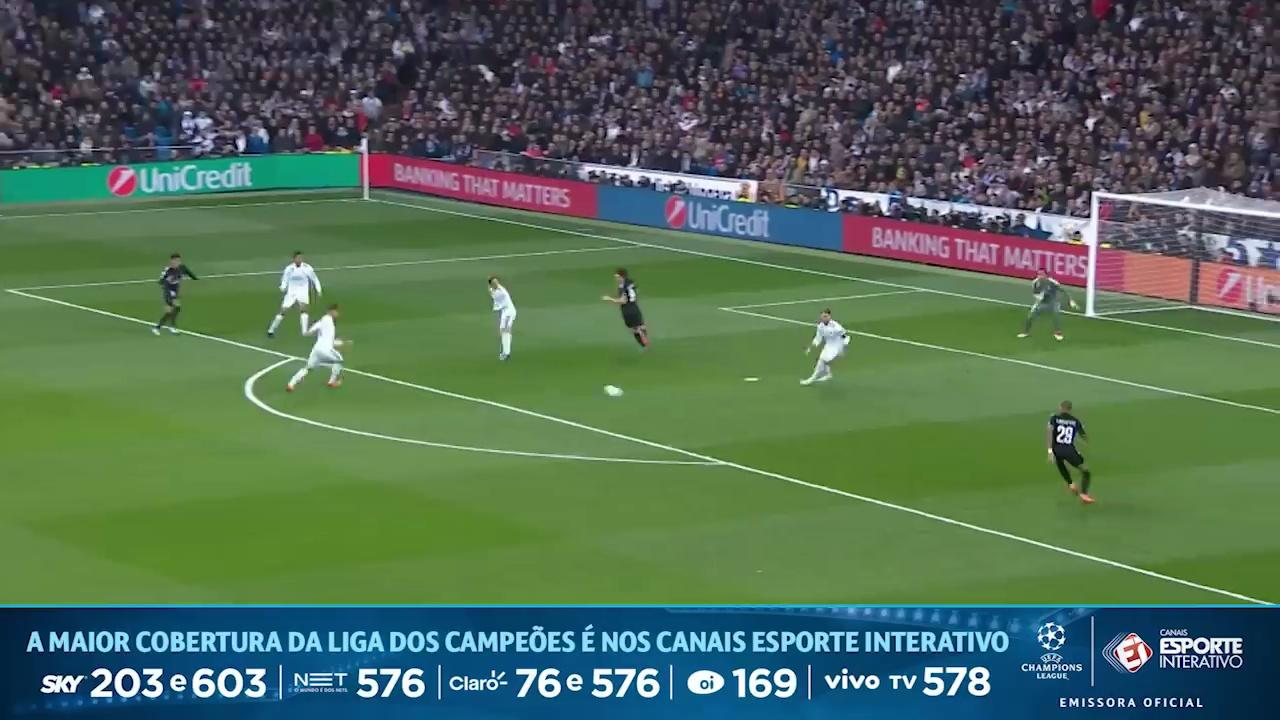football: (604, 385, 622, 396)
player: (286, 304, 349, 391), (1046, 401, 1093, 502), (267, 251, 321, 336), (1018, 270, 1075, 340), (602, 268, 649, 348), (152, 253, 197, 334), (801, 309, 849, 384), (488, 276, 517, 360)
